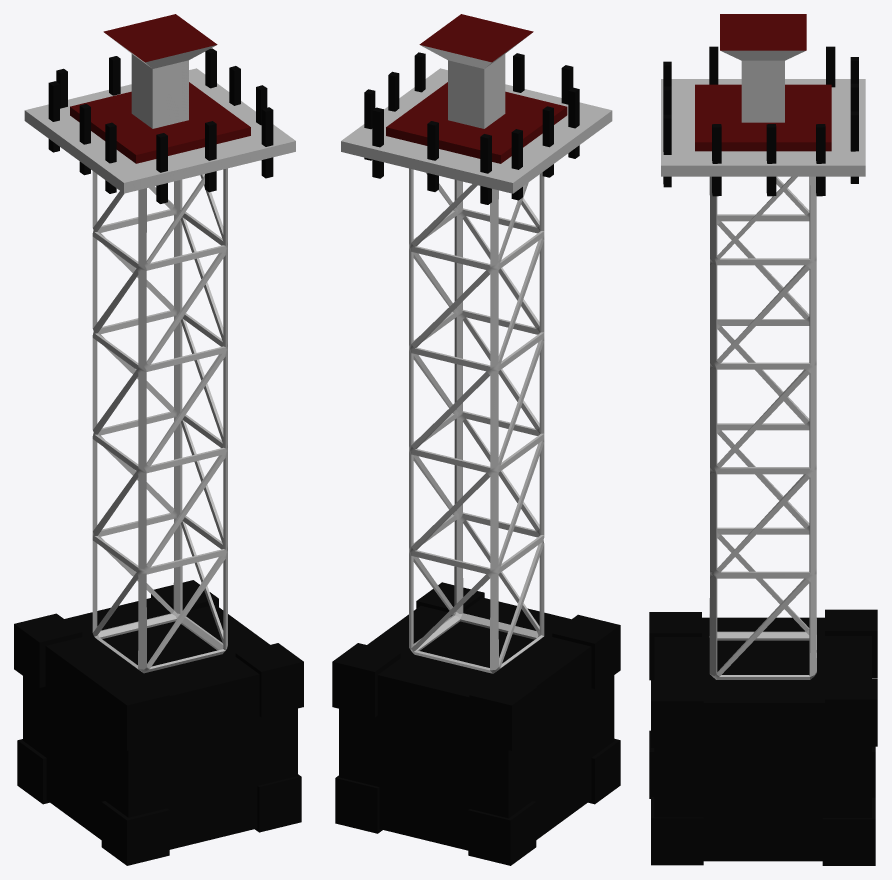
File: red electronic tower.fbx
3 renders of one model, left to right at view 1: azimuth 30°, elevation 25°; view 2: azimuth 150°, elevation 25°; view 3: azimuth 270°, elevation 25°, orthographic. The views are drawn at different scales.
Visible parts, largest first — view 1: polySurface21, polySurface23, polySurface22, polySurface10, polySurface11, polySurface12, polySurface20, polySurface9, polySurface14, polySurface13, polySurface16, polySurface18 (+4 smaller); view 2: polySurface21, polySurface23, polySurface22, polySurface20, polySurface14, polySurface13, polySurface10, polySurface6, polySurface11, polySurface12, polySurface2, polySurface3 (+4 smaller); view 3: polySurface21, polySurface22, polySurface23, polySurface13, polySurface12, polySurface9, polySurface6, polySurface20, polySurface10, polySurface19, polySurface8, polySurface15 (+1 smaller).
Part boxes in pixels (x1,y1,x2,y2): polySurface21: [23, 597, 297, 849]; polySurface23: [92, 168, 227, 673]; polySurface22: [24, 14, 295, 193]; polySurface10: [101, 676, 169, 750]; polySurface11: [101, 801, 169, 865]; polySurface12: [235, 643, 303, 717]; polySurface20: [14, 613, 82, 687]; polySurface9: [255, 774, 301, 832]; polySurface14: [17, 739, 49, 804]; polySurface13: [151, 580, 218, 610]; polySurface16: [261, 107, 273, 178]; polySurface18: [205, 121, 216, 192]; polySurface21: [339, 597, 614, 850]; polySurface23: [409, 168, 544, 673]; polySurface22: [341, 14, 612, 193]; polySurface20: [469, 676, 537, 750]; polySurface14: [468, 801, 536, 865]; polySurface13: [332, 643, 400, 717]; polySurface10: [552, 614, 620, 688]; polySurface6: [335, 775, 382, 833]; polySurface11: [588, 738, 620, 804]; polySurface12: [416, 582, 484, 612]; polySurface2: [372, 107, 383, 178]; polySurface3: [480, 134, 491, 204]; polySurface21: [654, 617, 871, 861]; polySurface22: [661, 14, 865, 176]; polySurface23: [709, 176, 816, 679]; polySurface13: [825, 678, 877, 746]; polySurface12: [651, 680, 703, 747]; polySurface9: [651, 797, 703, 865]; polySurface6: [822, 797, 875, 865]; polySurface20: [825, 609, 877, 677]; polySurface10: [649, 612, 701, 680]; polySurface19: [766, 124, 776, 196]; polySurface8: [816, 124, 825, 196]; polySurface15: [712, 124, 721, 196].
Bounding box in the file's own units: 14.87 × 60.51 × 15.86.
